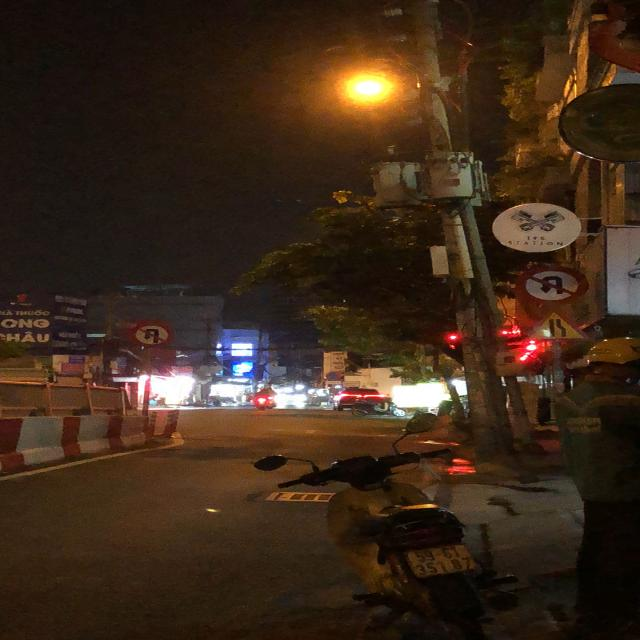Bien bao cam quay dau xe: (510, 263, 596, 307), (124, 320, 181, 350)
Bien bao duong bi thu hep: (518, 309, 595, 344)
